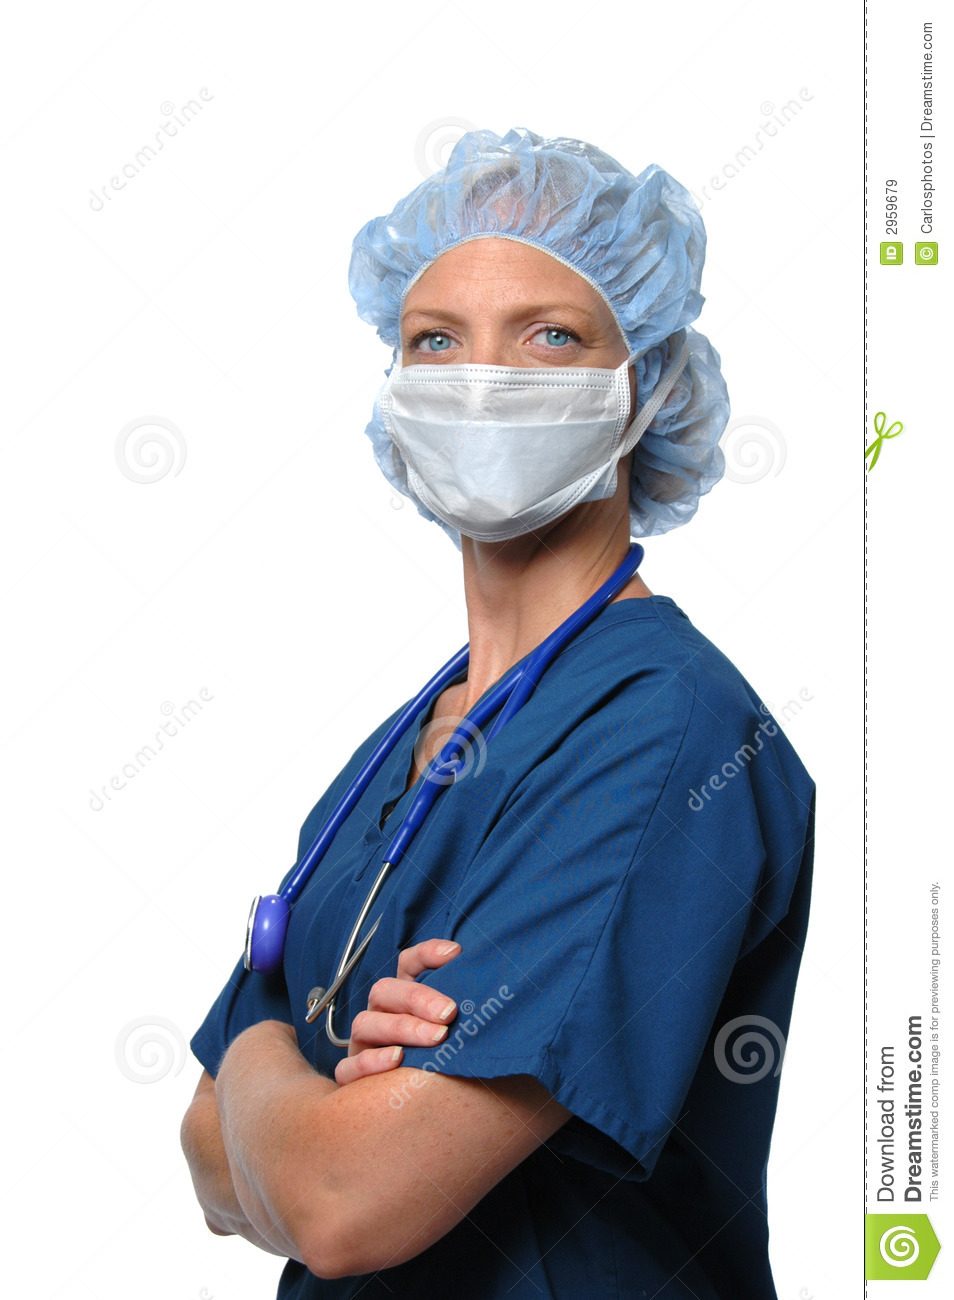mask: (377, 365, 629, 537)
